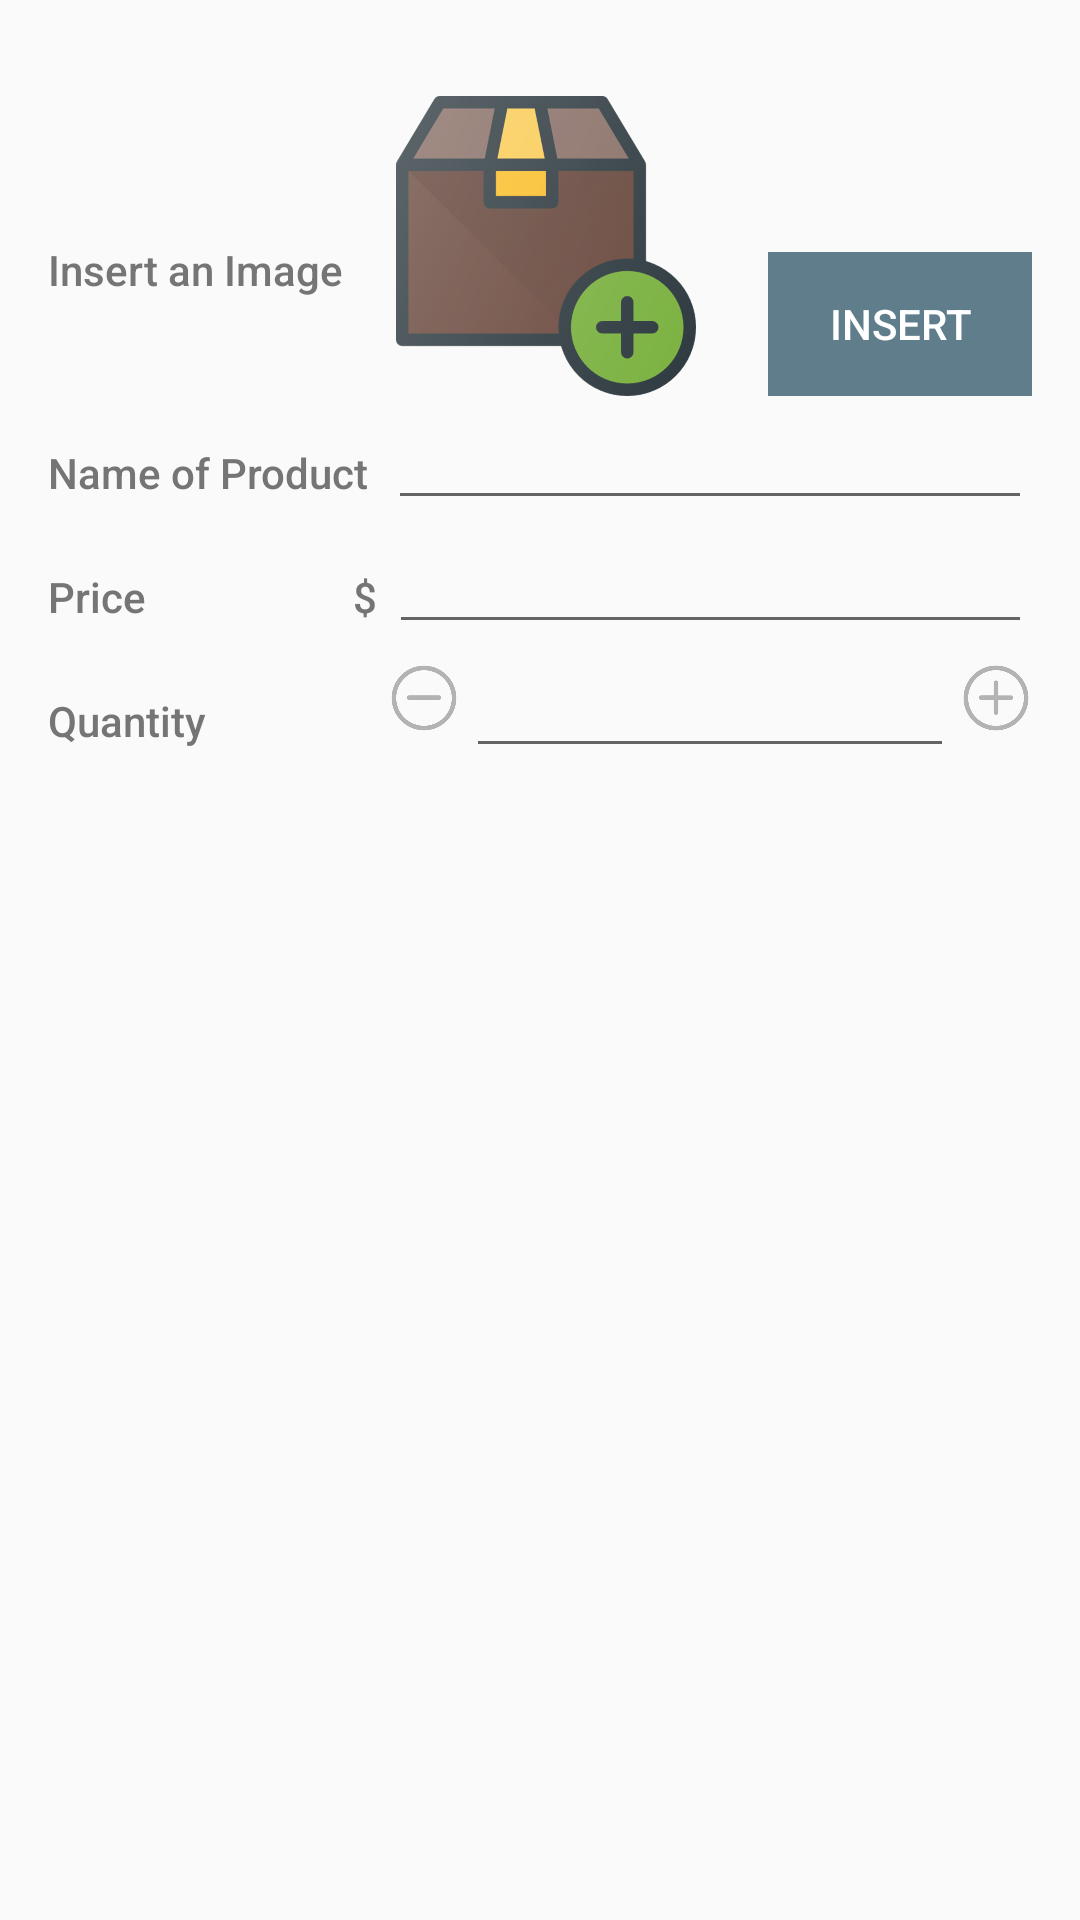

Icon bounding boxes for this 1080x1920 phone screenshot, format (x1, y1, x2, y2):
add: (964, 666, 1028, 730)
add item: (396, 96, 696, 396)
remove: (392, 666, 456, 730)
